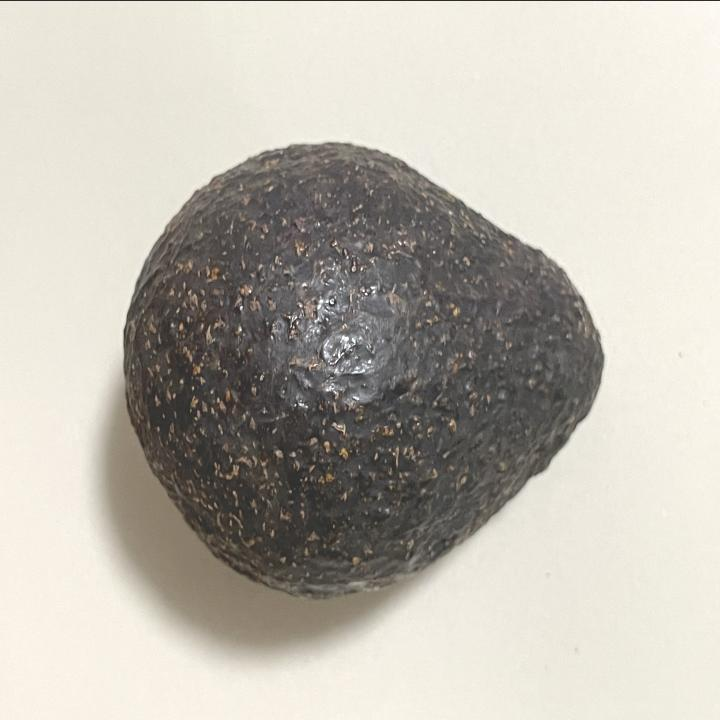Level3: (114, 125, 614, 612)
